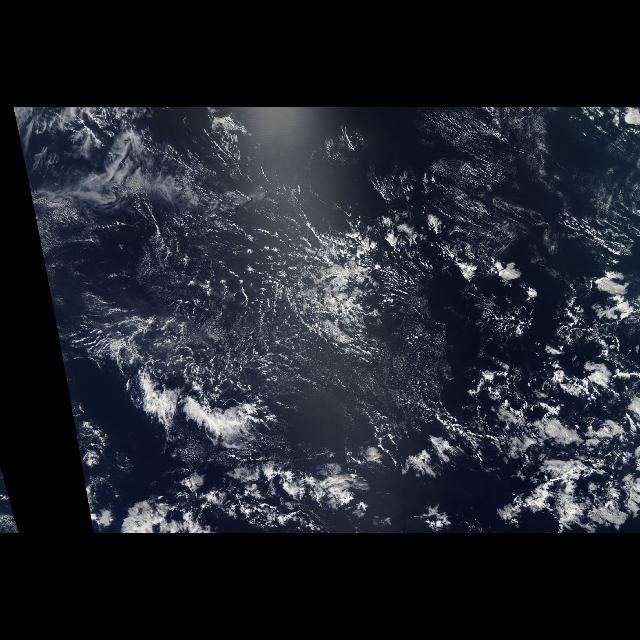Gravel: (243, 208, 639, 488)
Sugar: (430, 110, 640, 260), (184, 294, 328, 418)
